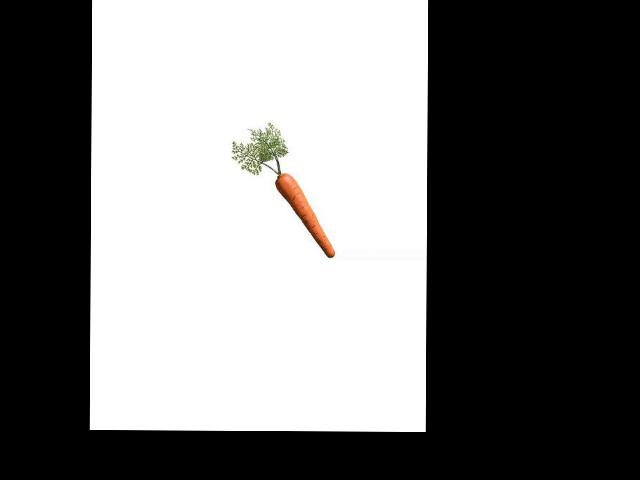carrot: (273, 171, 337, 259)
